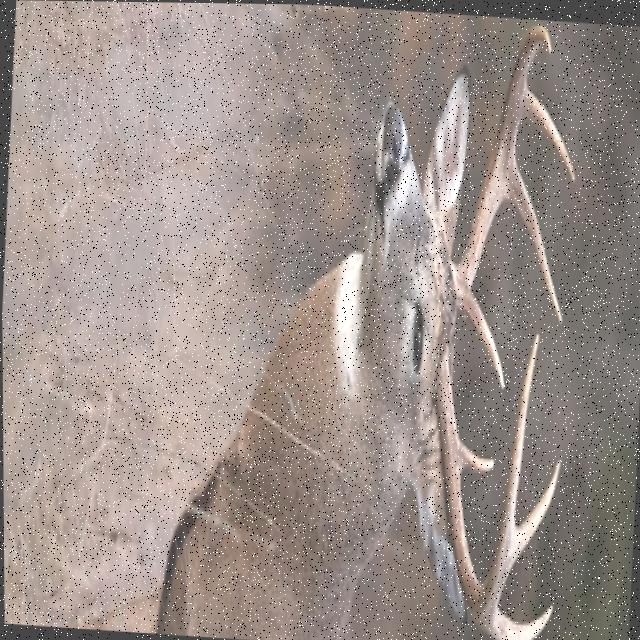L-F: (434, 329, 539, 625)
L-G1: (457, 428, 494, 480)
L-G2: (480, 602, 552, 640)
R-F: (449, 22, 553, 310)
R-G1: (459, 284, 504, 389)
R-G2: (500, 150, 563, 326)
R-G3: (519, 86, 575, 183)
